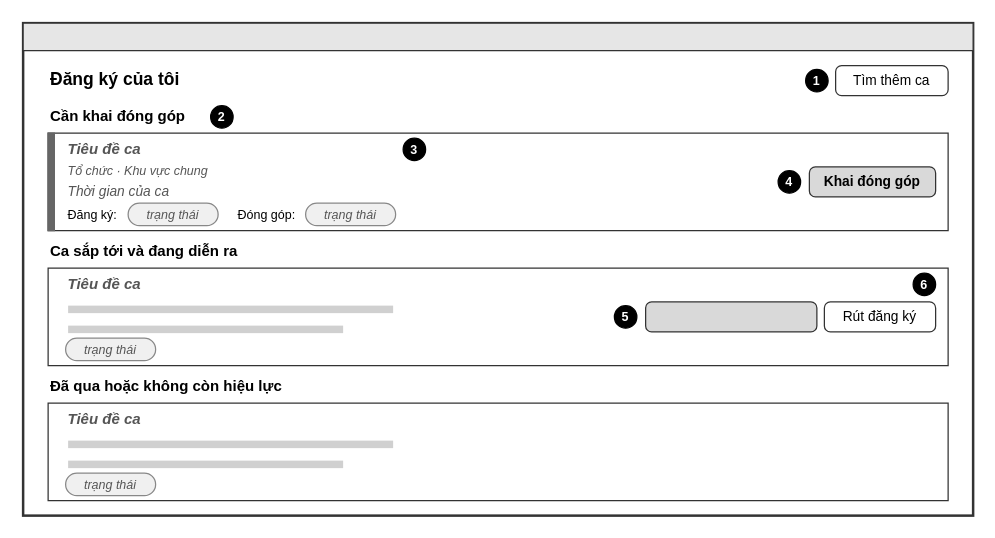
The diagram is 995 pixels wide and 538 high, and some of its shapes have lost their labels. The centre of each missing label's shape, as x and y in pixels:
"Xem hướng dẫn riêng" belongs at point 730,316.
"Đầu trang và thanh mục (Hình 6.2)" belongs at point 497,36.
